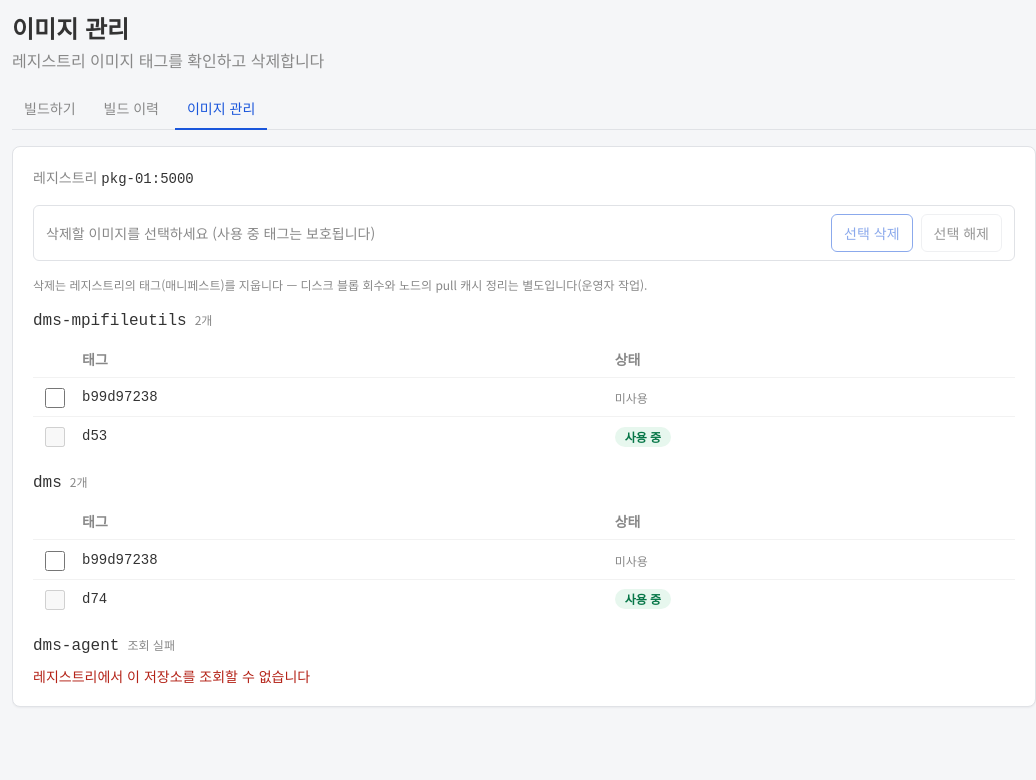
it: RegistryImages — 이미지 관리 › 삭제 실패(사용 중 등)는 사유를 바 아래에 남긴다
Click the checkbox named "dms:b99d97238 선택" at (55, 561), box [45,551,65,571]
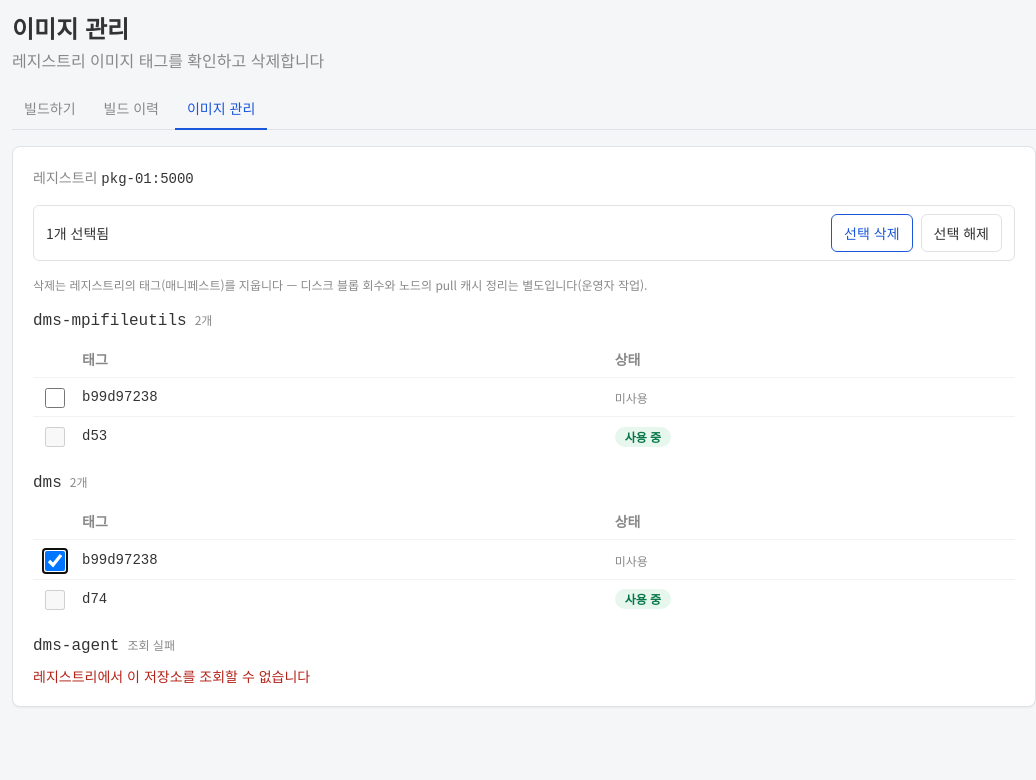
Click the button "선택 삭제" at (872, 233), box [831,214,913,252]
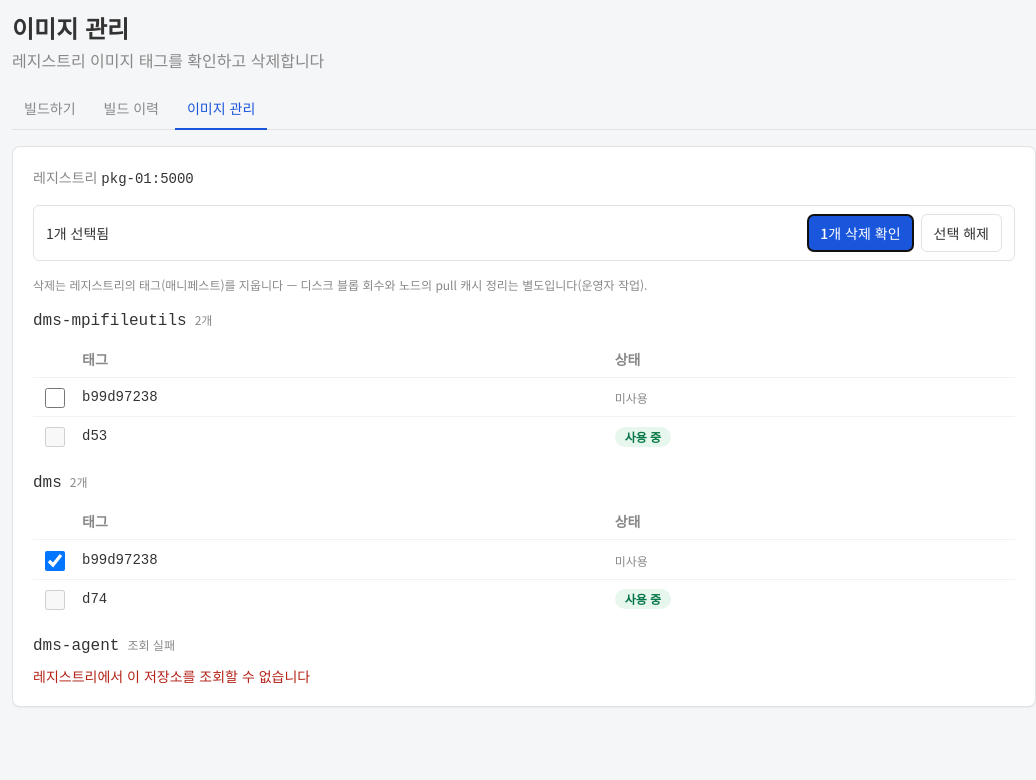
Click the button "1개 삭제 확인" at (860, 233), box [808,215,912,251]
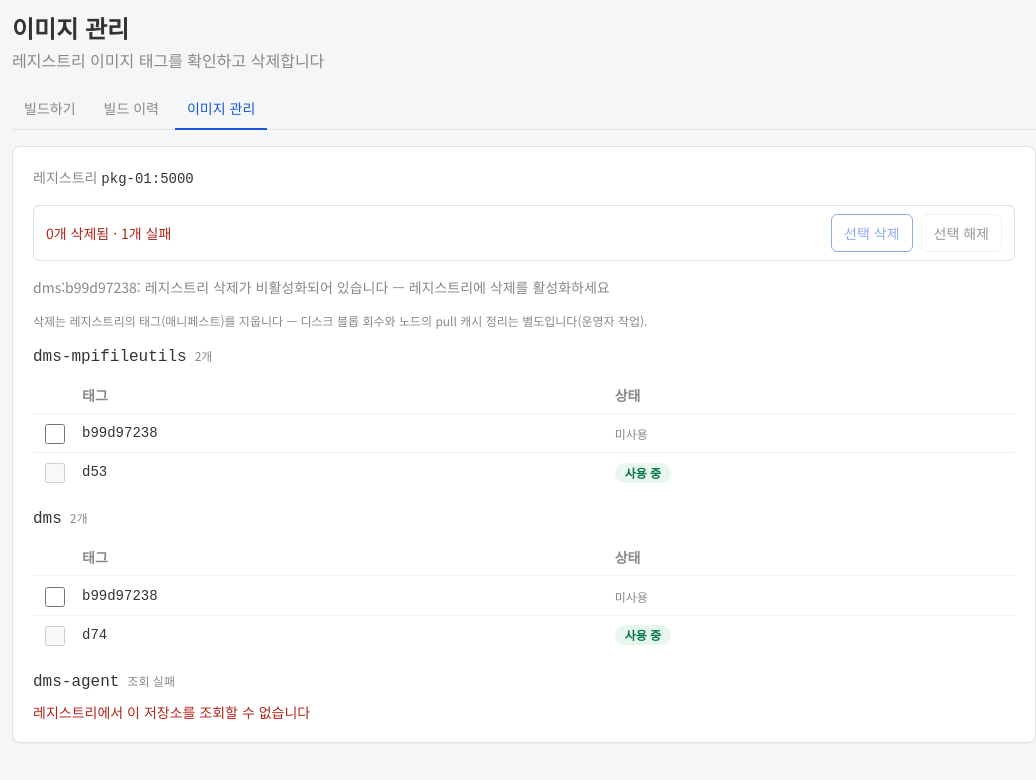
expect the text "dms:b99d97238: 레지스트리 삭제가 비활성화되어 있습니다 — 레지스트리에 삭제를 활성화하세요" is shown: met, box [33,277,610,297]
